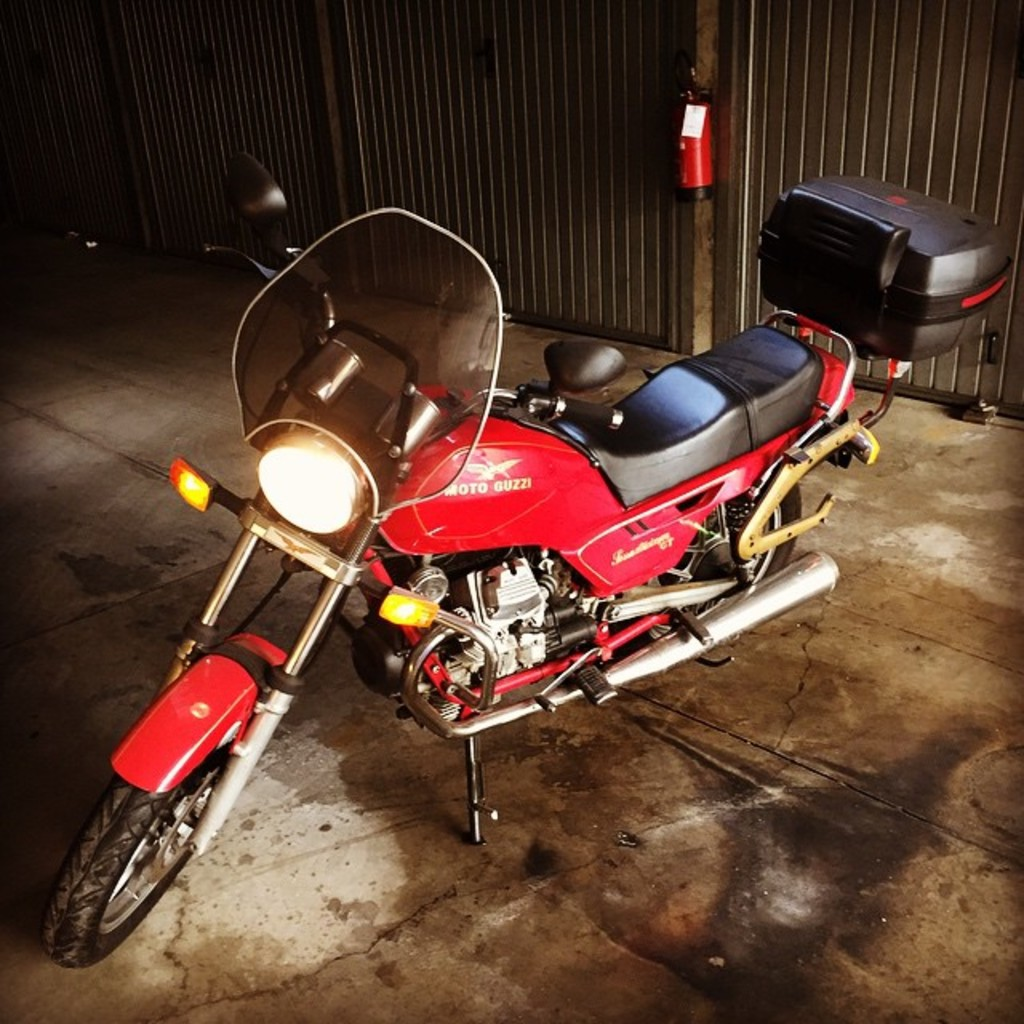Motorcycle: (39, 148, 1012, 967)
